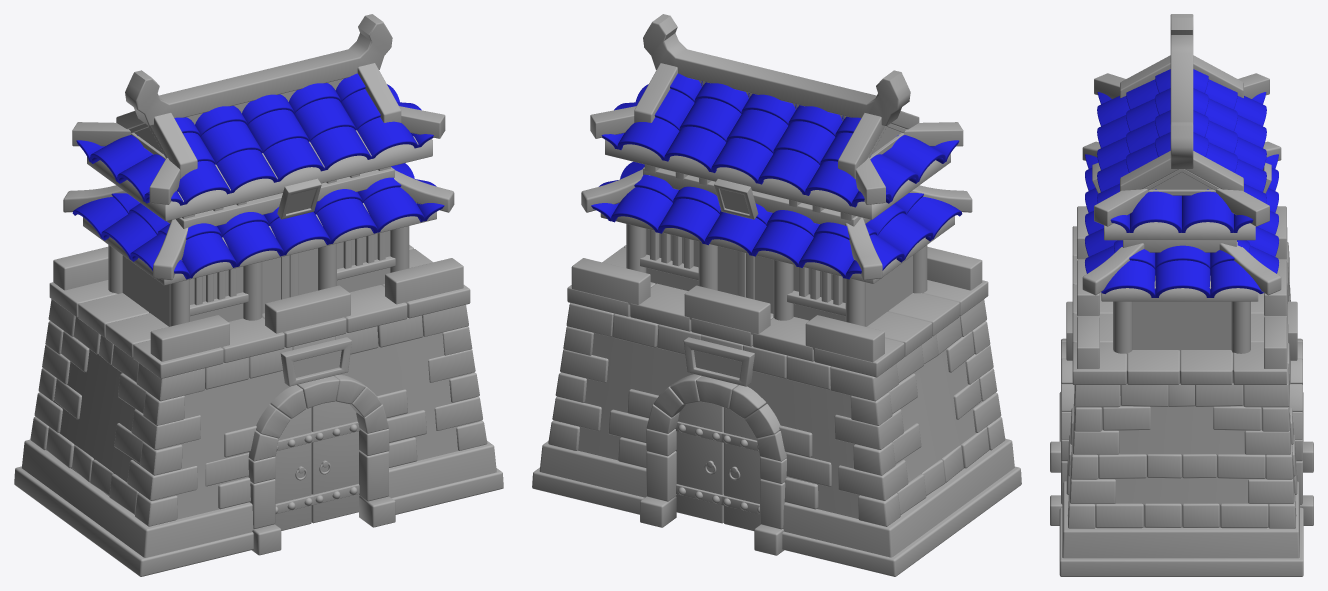
File: building_045_FGH_Main.fbx
3 views of the same model, side by side, from view 1: azimuth 30°, elevation 25°; view 2: azimuth 150°, elevation 25°; view 3: azimuth 270°, elevation 25° (orthographic). The views are drawn at different scales.
Parts seen in each view (by area): view 1: building_045_FGH_Main; view 2: building_045_FGH_Main; view 3: building_045_FGH_Main.
Boxes of the visible parts, x1,y1,x2,y2 form: building_045_FGH_Main: (14, 14, 503, 576); building_045_FGH_Main: (532, 14, 1021, 576); building_045_FGH_Main: (1050, 14, 1313, 576).
Bounding box in the file's own units: 915 × 1061 × 598.
